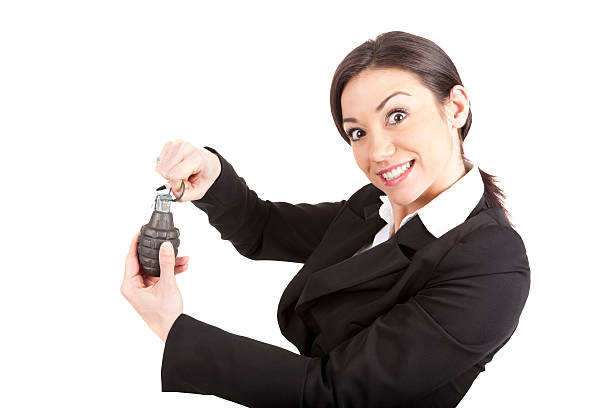e1: (137, 183, 184, 280)
